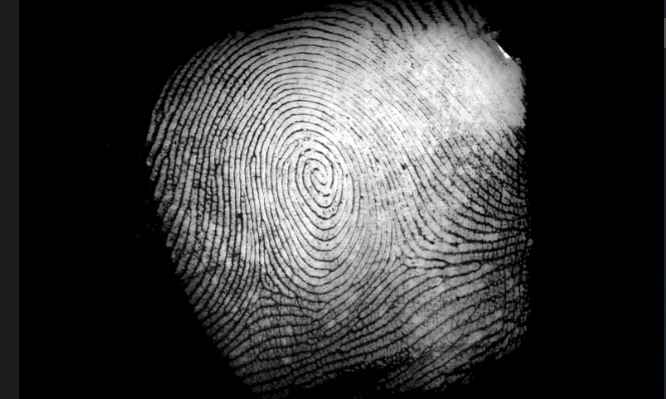nucelo: (294, 158, 341, 199)
verticilo: (250, 267, 281, 298), (389, 244, 420, 269)
